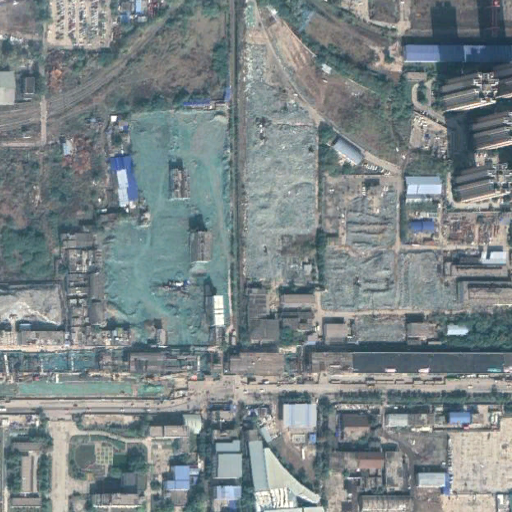cw: (240, 1, 464, 314), (102, 112, 229, 343), (5, 352, 173, 401)
